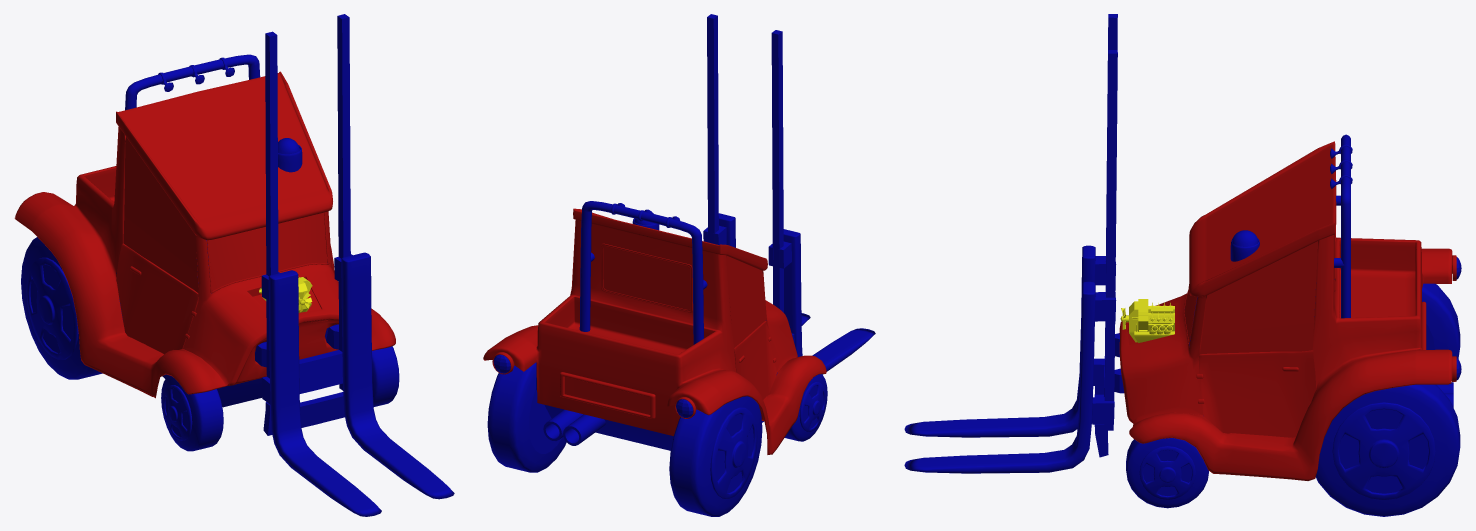
File: Redneck_Tr_007.fbx
The picture shows the model from 3 angles, left to right: view 1: azimuth 30°, elevation 25°; view 2: azimuth 150°, elevation 25°; view 3: azimuth 270°, elevation 25°; orthographic projection. The views are drawn at different scales.
Visible parts, largest first — view 1: Shell, Forks, Hydraulic, Wheel (×3), SideWindow, Door, WindScreen, Hub (×2), Rollbar, Chassis; view 2: Shell, Wheel (×3), Hydraulic, Forks, Window, Rollbar, Hub (×2), SideWindow, Reg_Plate, Door, Chassis, Exhaust2 (+2 smaller); view 3: Shell, Wheel (×3), Forks, Sidewindow, Door, Hub (×2), Hydraulic, Rollbar, pCube12.
Part boxes in pixels (bbox=[...]): Shell: bbox=[14, 71, 395, 398]; Forks: bbox=[261, 252, 454, 516]; Hydraulic: bbox=[255, 14, 350, 435]; Wheel (×3): bbox=[21, 237, 399, 451]; SideWindow: bbox=[123, 137, 198, 292]; Door: bbox=[116, 243, 198, 354]; WindScreen: bbox=[208, 212, 327, 290]; Hub (×2): bbox=[26, 257, 192, 440]; Rollbar: bbox=[125, 54, 260, 110]; Chassis: bbox=[116, 240, 338, 407]; Shell: bbox=[483, 208, 826, 454]; Wheel (×3): bbox=[487, 362, 827, 516]; Hydraulic: bbox=[707, 14, 783, 312]; Forks: bbox=[703, 213, 875, 374]; Window: bbox=[603, 246, 690, 309]; Rollbar: bbox=[579, 201, 707, 344]; Hub (×2): bbox=[710, 382, 825, 498]; SideWindow: bbox=[726, 256, 765, 347]; Reg_Plate: bbox=[560, 372, 655, 418]; Door: bbox=[734, 321, 776, 399]; Chassis: bbox=[536, 363, 777, 450]; Exhaust2: bbox=[563, 414, 605, 445]; Shell: bbox=[1119, 141, 1456, 480]; Wheel (×3): bbox=[1126, 283, 1460, 516]; Forks: bbox=[904, 245, 1116, 473]; Sidewindow: bbox=[1199, 241, 1317, 354]; Door: bbox=[1198, 350, 1315, 437]; Hub (×2): bbox=[1139, 402, 1435, 499]; Hydraulic: bbox=[1094, 14, 1124, 457]; Rollbar: bbox=[1334, 134, 1350, 318]; pCube12: bbox=[1129, 299, 1174, 342].
Bounding box in the file's own units: 171 × 265 × 315.
